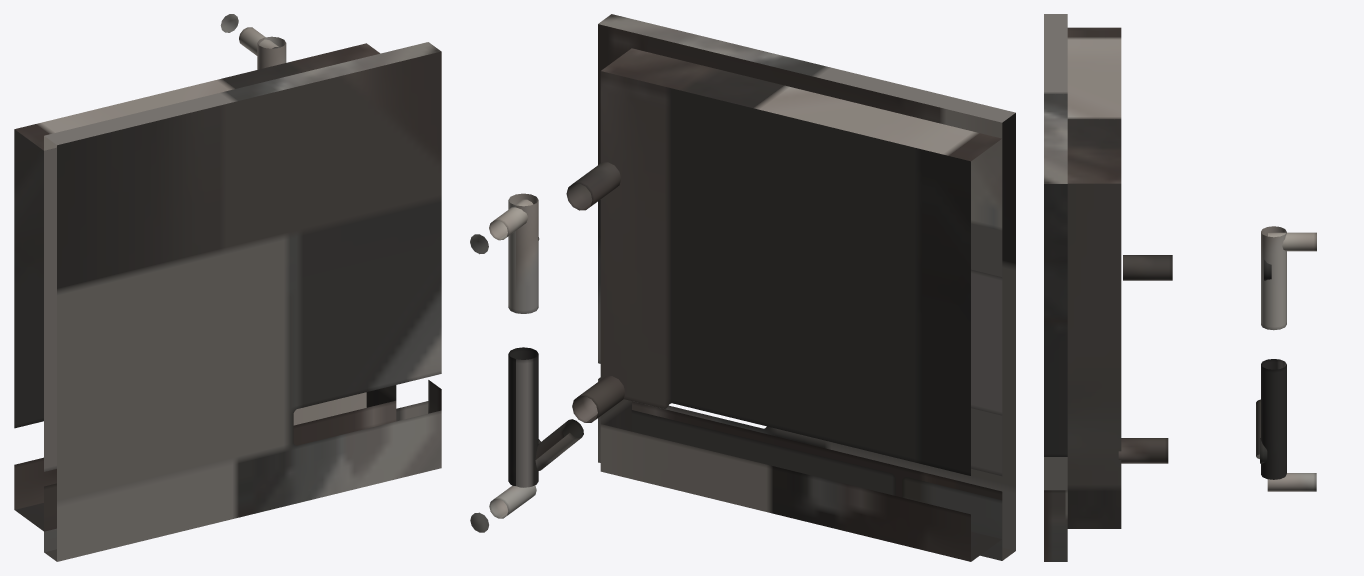
File: section-2.obj
3 views of the same model, side by side, from view 1: azimuth 30°, elevation 25°; view 2: azimuth 150°, elevation 25°; view 3: azimuth 270°, elevation 25° (orthographic). The views are drawn at different scales.
Bounding box in the file's own units: 0.933 × 0.9665 × 0.7091.
